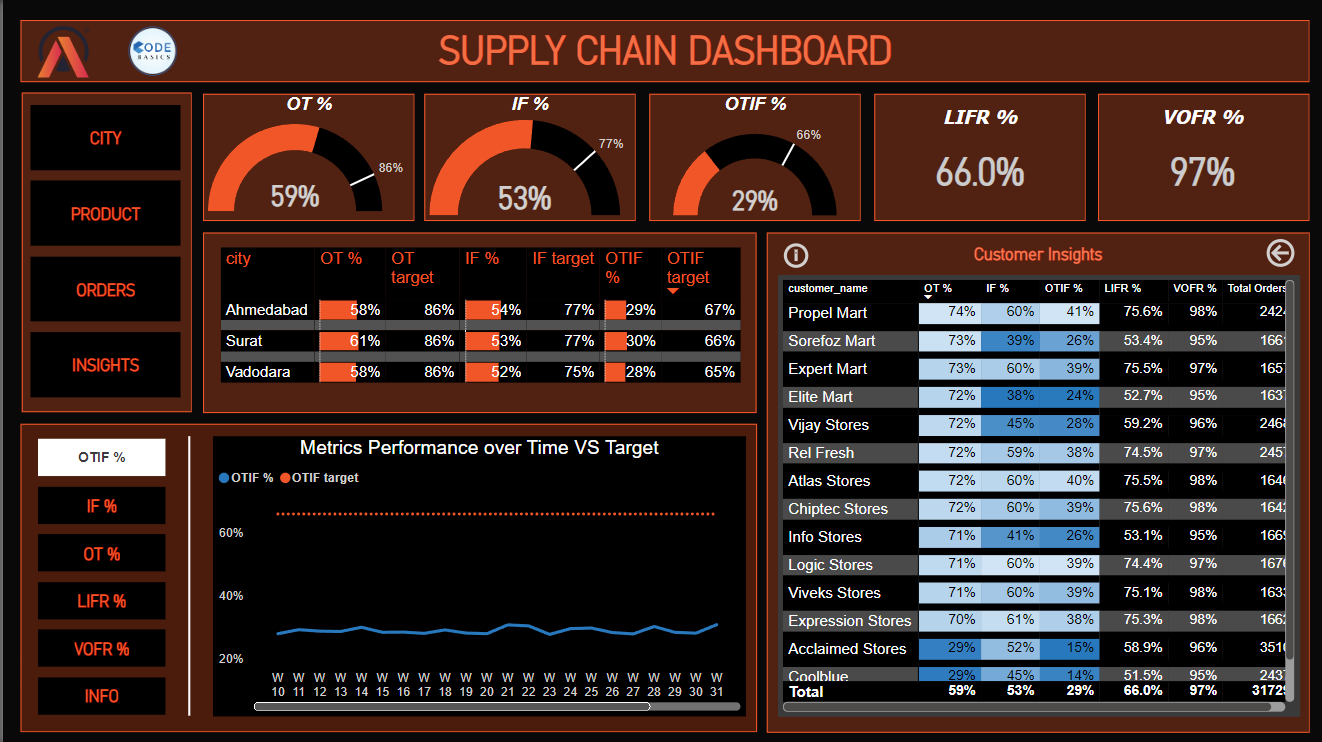

The page's visual inventory and layout, read from the dashboard file:
{"tool":"powerbi","page":{"name":"METRICS","canvas":[1280,720],"ordinal":0},"visuals":[{"type":"textbox","title":"Heading","box":[295,20.9,687.3,59.8],"z":0,"group":"g3"},{"type":"shape","box":[18.1,89.3,164.3,308.6],"z":0,"group":"g4"},{"type":"shape","box":[192.9,90,204.3,122.9],"z":0,"group":"g9"},{"type":"group","id":"g1","title":"if","box":[407.1,90,204.3,122.9],"z":0},{"type":"shape","box":[407.1,90,204.3,122.9],"z":0,"group":"g1"},{"type":"shape","box":[624.3,90,204.3,122.9],"z":0,"group":"g2"},{"type":"shape","box":[841.4,90,204.3,122.9],"z":0,"group":"g7"},{"type":"shape","box":[1057.1,90,204.3,122.9],"z":0,"group":"g6"},{"type":"shape","box":[192.9,224.3,534.3,174.3],"z":0,"group":"g8"},{"type":"shape","box":[737.1,224.3,524.3,482.9],"z":0,"group":"g10"},{"type":"shape","box":[16.7,409,711,297.7],"z":0,"group":"g5"},{"type":"shape","box":[17.1,20,1244.3,60],"z":1000,"group":"g3"},{"type":"gauge","title":"OT %","fields":{"Y":["Table.OT %"],"TargetValue":["Table.OT target"]},"box":[192.9,90,204.3,122.9],"z":1000,"group":"g9"},{"type":"gauge","title":"IF % ","fields":{"Y":["Table.IF %"],"TargetValue":["Table.IF target"]},"box":[407.1,90,204.3,122.9],"z":1000,"group":"g1"},{"type":"group","id":"g2","title":"otif","box":[624.3,90,204.3,122.9],"z":1000},{"type":"gauge","title":"OTIF % ","fields":{"Y":["Table.OTIF %"],"TargetValue":["Table.OTIF target"]},"box":[624.3,90,204.3,122.9],"z":1000,"group":"g2"},{"type":"card","title":"LIFR %","fields":{"Values":["Table.LIFR %"]},"box":[868.5,101.4,151.4,100],"z":1000,"group":"g7"},{"type":"card","title":"VOFR %","fields":{"Values":["Table.VOFR %"]},"box":[1082.8,101.4,151.4,100],"z":1000,"group":"g6"},{"type":"tableEx","fields":{"Values":["dim_customer.city","Table.OT %","Table.OT target","Table.IF %","Table.IF target","Table.OTIF %","Table.OTIF target"]},"box":[203.4,234.5,513.3,151.1],"z":1000,"group":"g8"},{"type":"pivotTable","fields":{"Rows":["dim_customer.customer_name"],"Values":["Table.OT %","Table.IF %","Table.OTIF %","Table.LIFR %","Table.VOFR %","Table.Total Orders"]},"box":[748.2,265.2,503.8,426.2],"z":1000,"group":"g10"},{"type":"lineChart","title":"Metrics Performance over Time VS Target","fields":{"Y":["Table.OTIF %","Table.OTIF target"],"Category":["dim_date.date.Variation.Date Hierarchy.Month","dim_date.week_no"]},"box":[202.9,421.4,514.3,270],"z":1000,"group":"g5"},{"type":"image","title":"logo","box":[16.7,19.5,83.5,61.2],"z":2000,"group":"g3"},{"type":"textbox","box":[737.5,230,523.8,35],"z":2000,"group":"g10"},{"type":"shape","title":"line shape","box":[157.2,421.5,45.9,269.9],"z":2000,"group":"g5"},{"type":"image","title":"logo","box":[107.1,19.5,73.7,59.8],"z":3000,"group":"g3"},{"type":"group","id":"g3","title":"Logo","box":[16.7,19.5,1244.7,61.2],"z":4000},{"type":"group","id":"g4","title":"buttons","box":[18.1,89.3,164.1,307.6],"z":5000},{"type":"group","id":"g5","title":"metrics button","box":[16.7,409,711,297.7],"z":6000},{"type":"group","id":"g6","title":"vofr","box":[1057.1,90,204.3,122.9],"z":7000},{"type":"group","id":"g7","title":"lifr","box":[841.4,90,204.3,122.9],"z":8000},{"type":"group","id":"g8","title":"table","box":[192.9,224.3,534.3,174.3],"z":9000},{"type":"group","id":"g9","title":"ot","box":[192.9,90,204.3,122.9],"z":10000},{"type":"pageNavigator","box":[26.5,101.3,146,283.5],"z":15000},{"type":"bookmarkNavigator","box":[33.8,423.5,123.1,267.8],"z":16000},{"type":"group","id":"g10","title":"matrix","box":[737.1,224.3,524.3,482.9],"z":17000},{"type":"actionButton","box":[748.8,230,40,32.5],"z":18000},{"type":"actionButton","box":[1215,225,36.2,40],"z":20000}]}

Visuals, with their boxes in screenshot pixels (x1, y1, x2, y2), scaled from the page's 1280x720 canvas onto the 1322x742 screenshot:
"Heading" textbox: {"x1": 305, "y1": 22, "x2": 1015, "y2": 83}
shape: {"x1": 19, "y1": 92, "x2": 188, "y2": 410}
shape: {"x1": 199, "y1": 93, "x2": 410, "y2": 219}
"if" group: {"x1": 420, "y1": 93, "x2": 631, "y2": 219}
shape: {"x1": 420, "y1": 93, "x2": 631, "y2": 219}
shape: {"x1": 645, "y1": 93, "x2": 856, "y2": 219}
shape: {"x1": 869, "y1": 93, "x2": 1080, "y2": 219}
shape: {"x1": 1092, "y1": 93, "x2": 1303, "y2": 219}
shape: {"x1": 199, "y1": 231, "x2": 751, "y2": 411}
shape: {"x1": 761, "y1": 231, "x2": 1303, "y2": 729}
shape: {"x1": 17, "y1": 421, "x2": 752, "y2": 728}
shape: {"x1": 18, "y1": 21, "x2": 1303, "y2": 82}
"OT %" gauge: {"x1": 199, "y1": 93, "x2": 410, "y2": 219}
"IF % " gauge: {"x1": 420, "y1": 93, "x2": 631, "y2": 219}
"otif" group: {"x1": 645, "y1": 93, "x2": 856, "y2": 219}
"OTIF % " gauge: {"x1": 645, "y1": 93, "x2": 856, "y2": 219}
"LIFR %" card: {"x1": 897, "y1": 104, "x2": 1053, "y2": 208}
"VOFR %" card: {"x1": 1118, "y1": 104, "x2": 1275, "y2": 208}
tableEx - dim_customer.city x Table.OT %: {"x1": 210, "y1": 242, "x2": 740, "y2": 397}
pivotTable - dim_customer.customer_name x Table.OT %: {"x1": 773, "y1": 273, "x2": 1293, "y2": 713}
"Metrics Performance over Time VS Target" lineChart: {"x1": 210, "y1": 434, "x2": 741, "y2": 713}
"logo" image: {"x1": 17, "y1": 20, "x2": 103, "y2": 83}
textbox: {"x1": 762, "y1": 237, "x2": 1303, "y2": 273}
"line shape" shape: {"x1": 162, "y1": 434, "x2": 210, "y2": 713}
"logo" image: {"x1": 111, "y1": 20, "x2": 187, "y2": 82}
"Logo" group: {"x1": 17, "y1": 20, "x2": 1303, "y2": 83}
"buttons" group: {"x1": 19, "y1": 92, "x2": 188, "y2": 409}
"metrics button" group: {"x1": 17, "y1": 421, "x2": 752, "y2": 728}
"vofr" group: {"x1": 1092, "y1": 93, "x2": 1303, "y2": 219}
"lifr" group: {"x1": 869, "y1": 93, "x2": 1080, "y2": 219}
"table" group: {"x1": 199, "y1": 231, "x2": 751, "y2": 411}
"ot" group: {"x1": 199, "y1": 93, "x2": 410, "y2": 219}
pageNavigator: {"x1": 27, "y1": 104, "x2": 178, "y2": 397}
bookmarkNavigator: {"x1": 35, "y1": 436, "x2": 162, "y2": 712}
"matrix" group: {"x1": 761, "y1": 231, "x2": 1303, "y2": 729}
actionButton: {"x1": 773, "y1": 237, "x2": 815, "y2": 271}
actionButton: {"x1": 1255, "y1": 232, "x2": 1292, "y2": 273}
